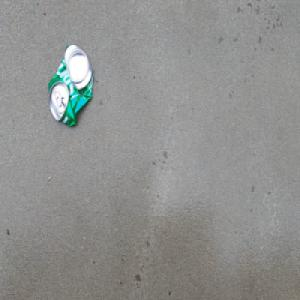SodaCan: (46, 41, 94, 129)
